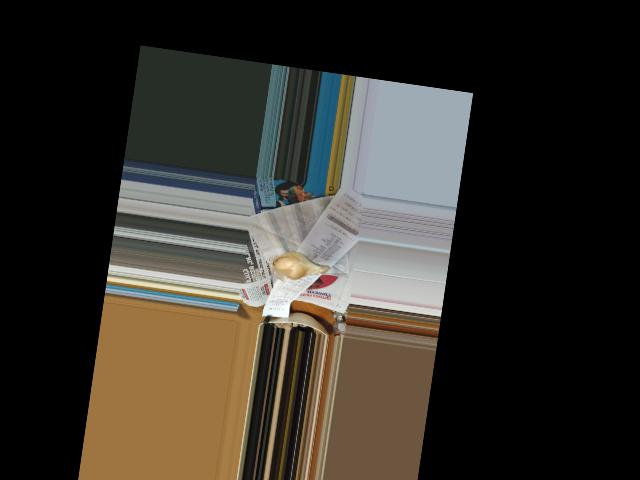onion: (272, 250, 323, 282)
